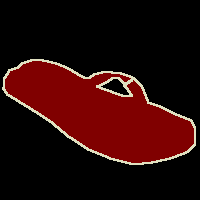shoe: (3, 60, 195, 164)
